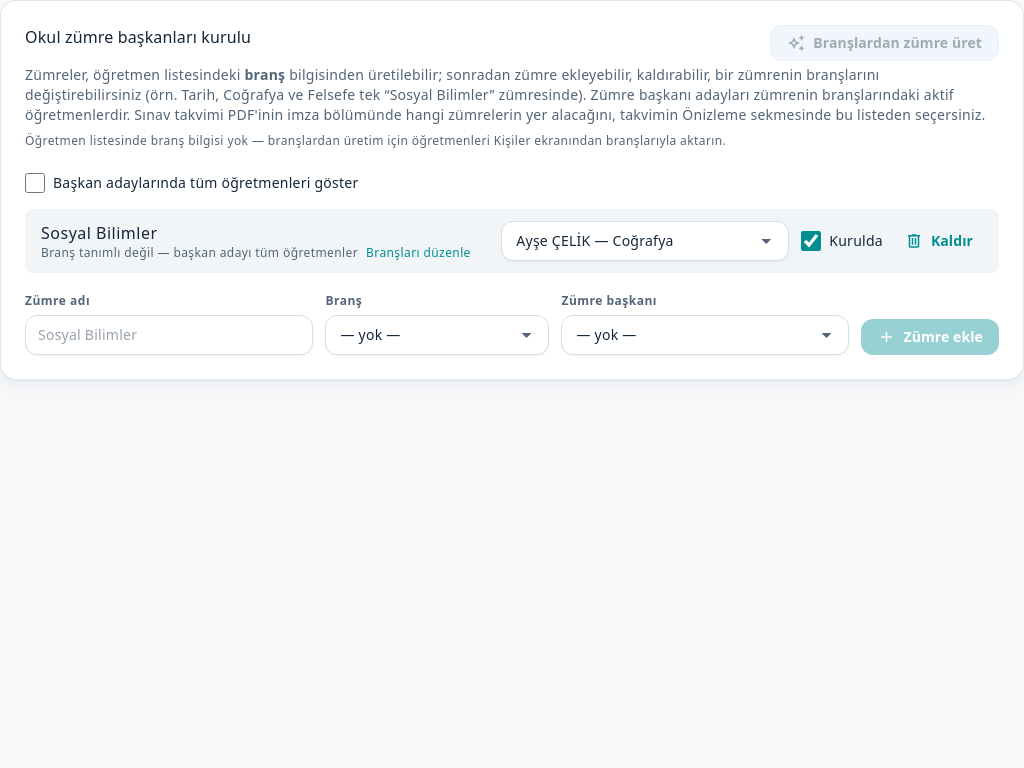
Scenario: ZumrelerPaneli › başkan “— yok —” yapılınca kaldırıldığı bildirilir
Select "— yok —" in the dropdown named "Sosyal Bilimler zümre başkanı" at (633, 241), box [512, 231, 754, 251]
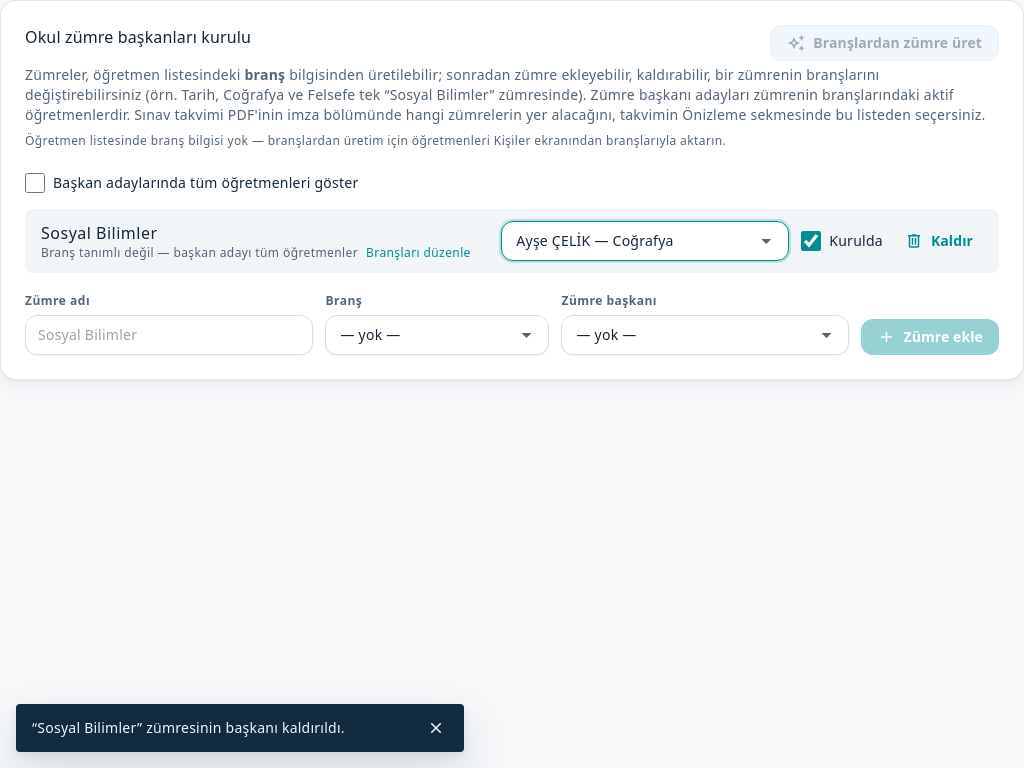
Expected: the text "“Sosyal Bilimler” zümresinin başkanı kaldırıldı." is shown, [32, 718, 345, 737]
